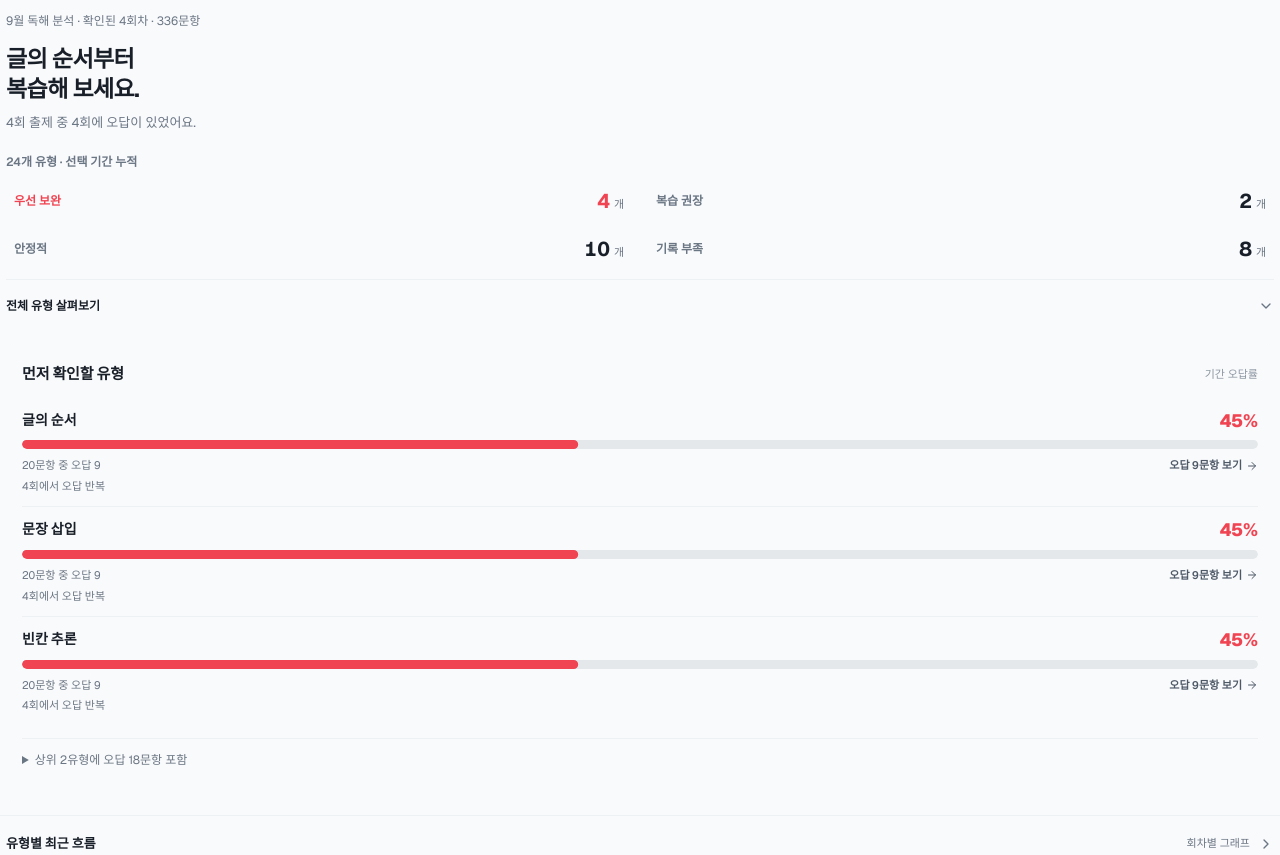
Scenario: 분석 화면 › 유형 목록을 접었다 펴면 검색과 상태 필터를 초기화한다
Click the button "전체 유형 살펴보기".
click(53, 306)  # box [6,279,1274,323]
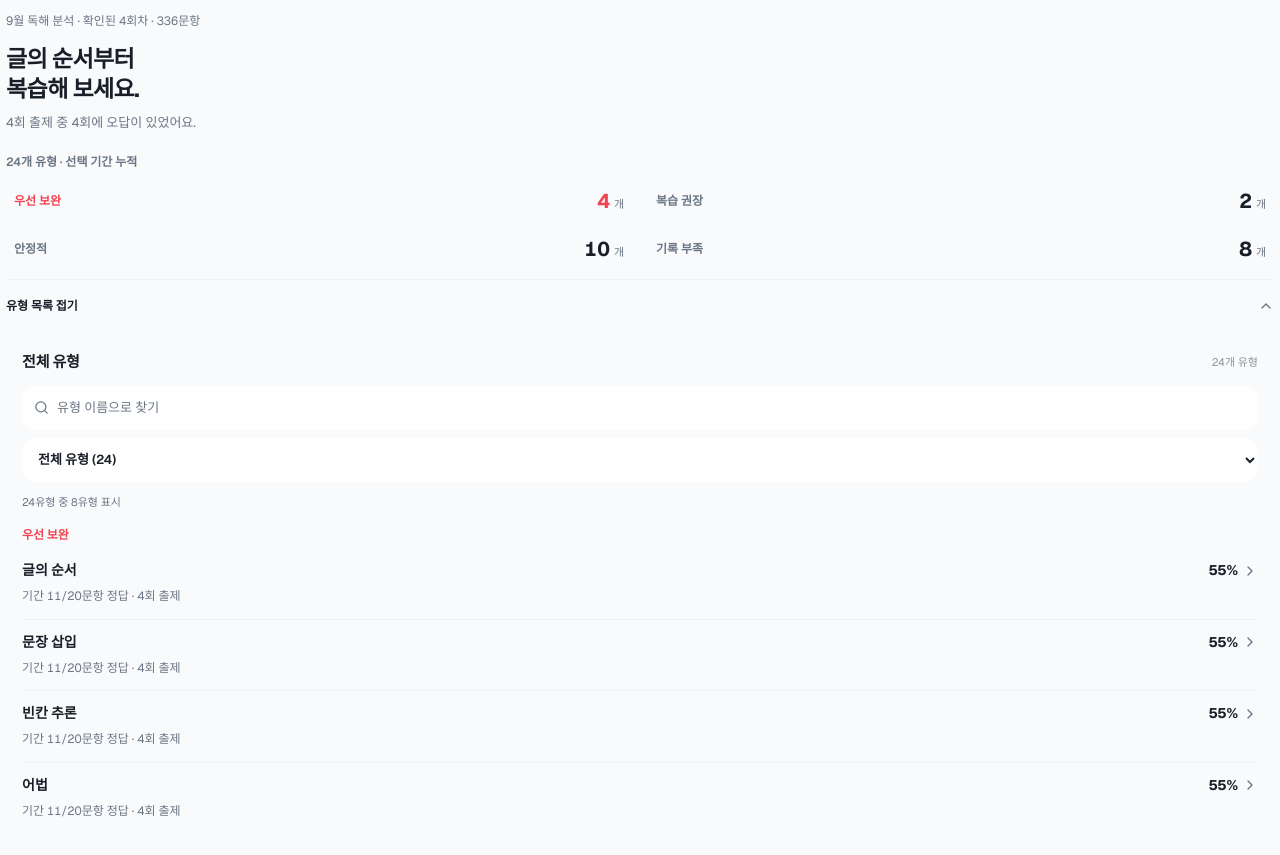
Type "요약문" into the search field named "유형 이름 검색".
click(652, 408); type("요약문")  # box [57,386,1246,430]
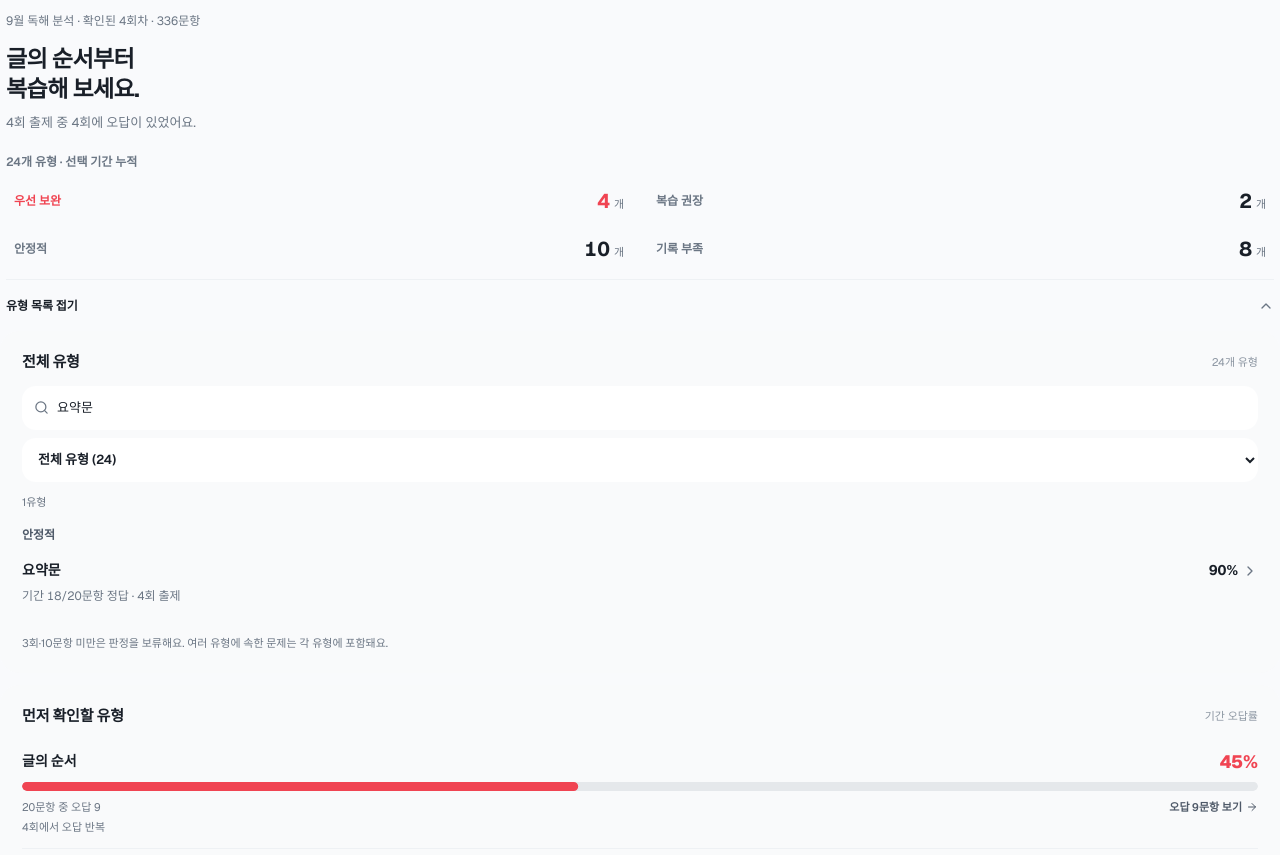
Select "안정적 (10)" in the dropdown named "유형 상태 필터" at (640, 460), box [22,438,1258,482]
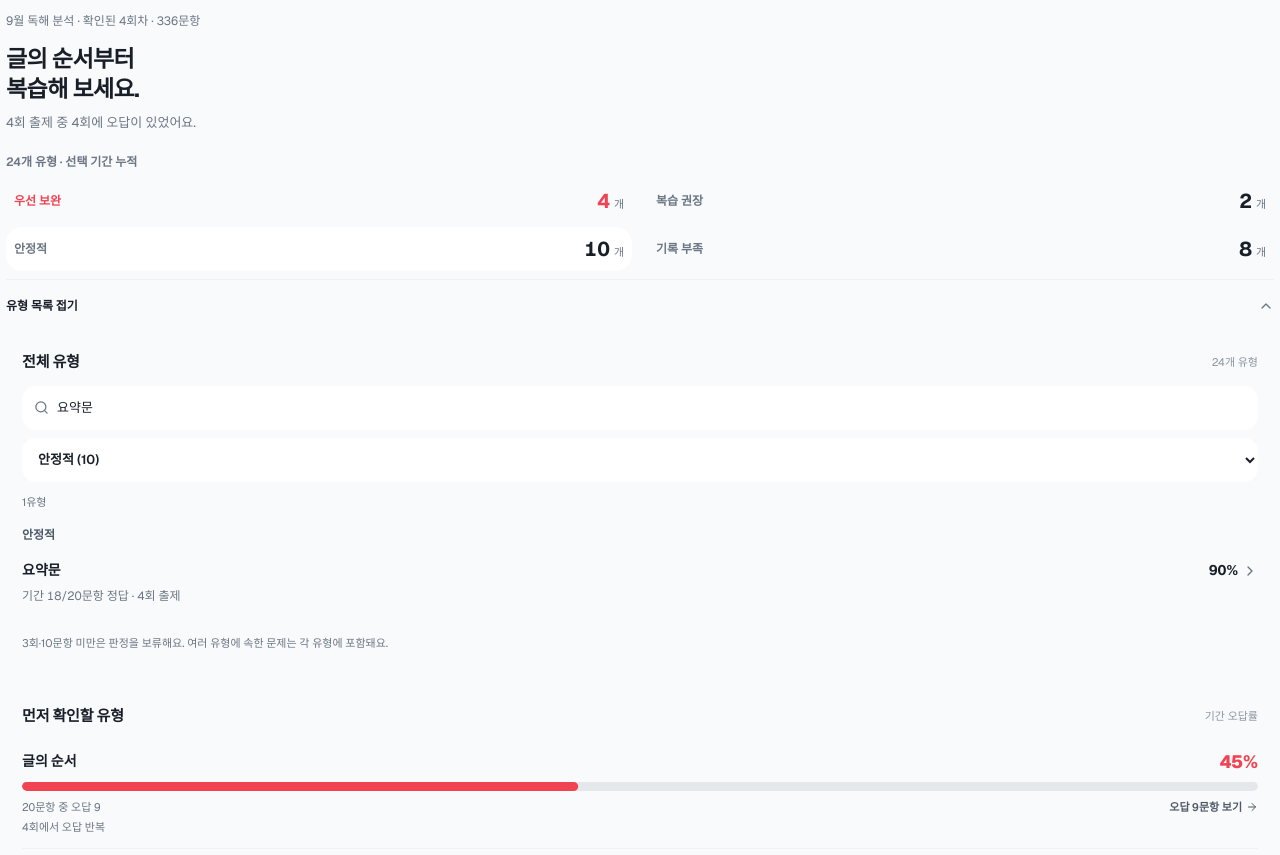
Expected: the message reads "1유형", [22,495,46,509]
Click the button "유형 목록 접기".
click(42, 306)  # box [6,279,1274,323]
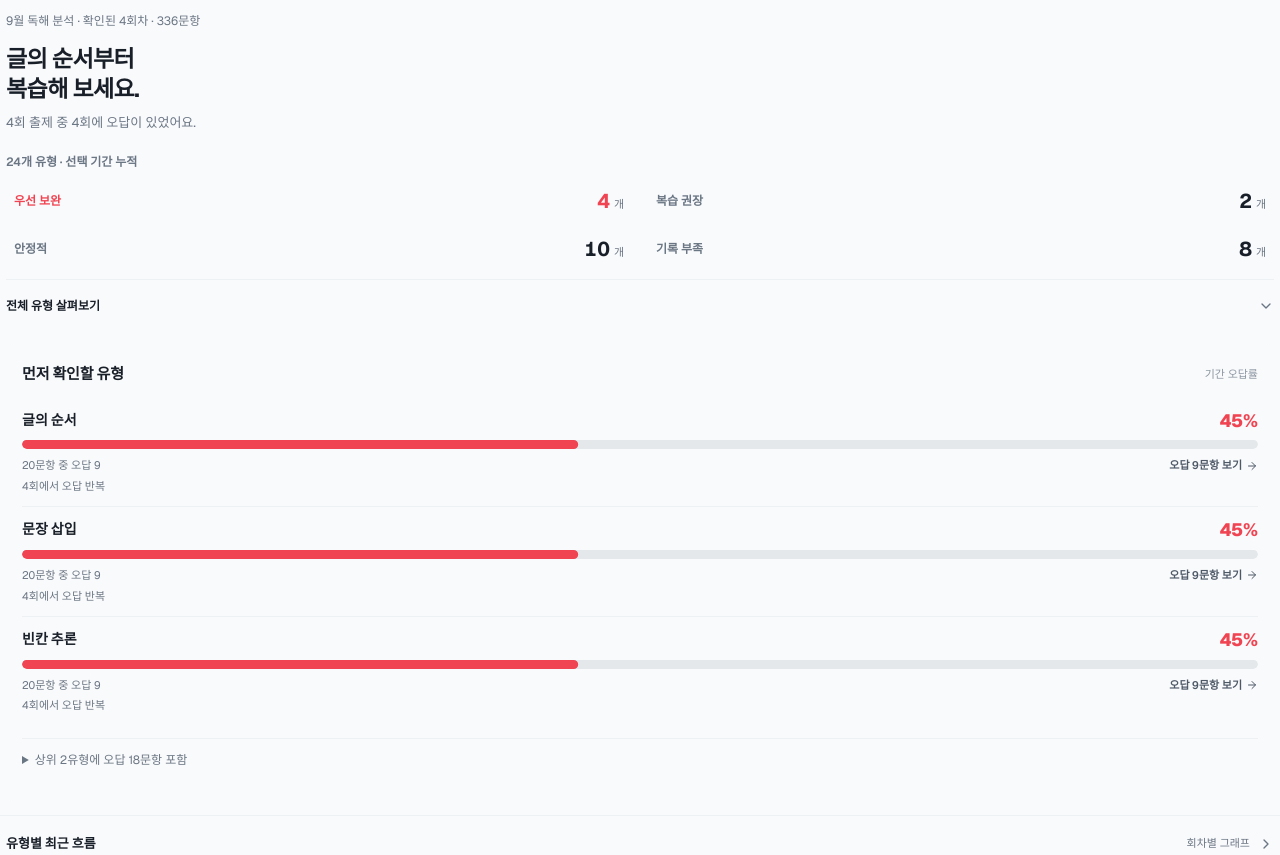
Expected: the button "유형 목록" is gone
Click the button "전체 유형 살펴보기".
click(53, 306)  # box [6,279,1274,323]
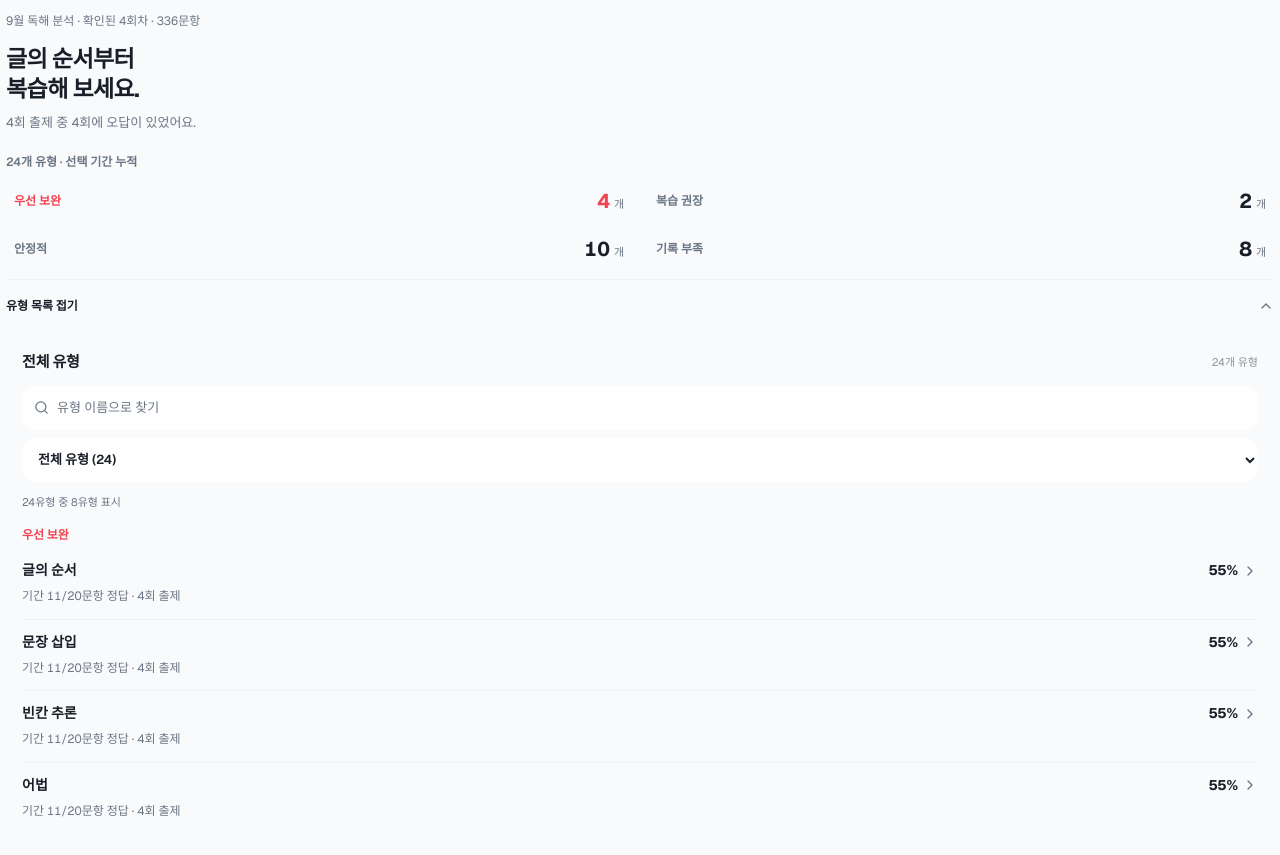
Expected: the search field named "유형 이름 검색" is empty, [57,386,1246,430]
Expected: the dropdown named "유형 상태 필터" shows "전체 유형 (24)", [22,438,1258,482]
Expected: the message reads "24유형 중 8유형 표시", [22,495,121,509]
